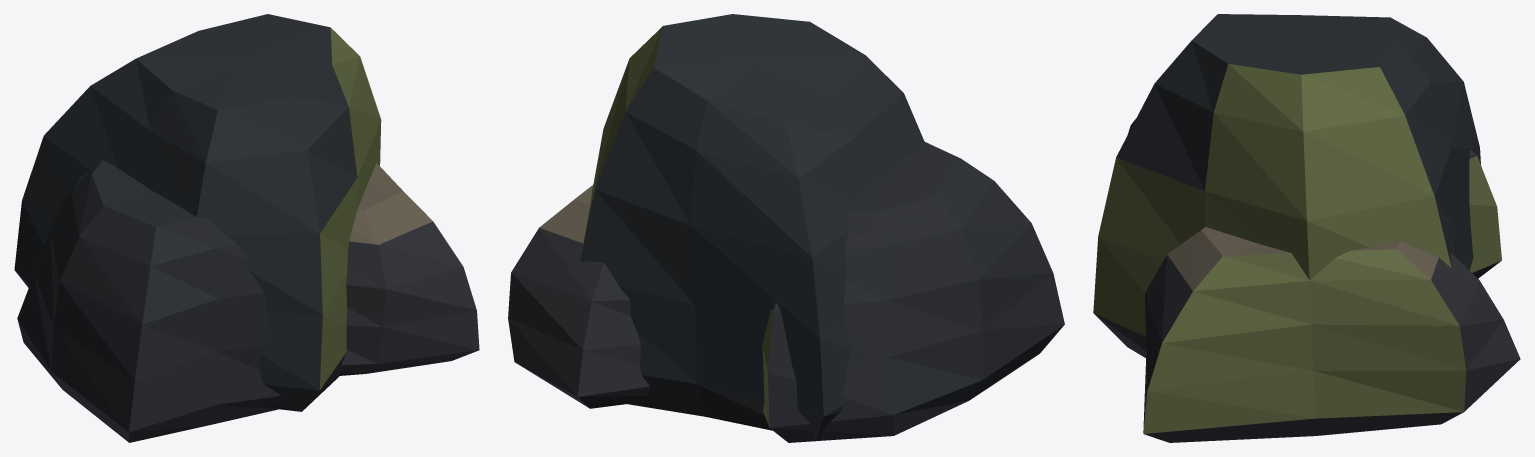
The model's file is rock_reef_small_a.glb.
3 renders of one model, left to right at view 1: azimuth 30°, elevation 25°; view 2: azimuth 150°, elevation 25°; view 3: azimuth 270°, elevation 25°, orthographic. The views are drawn at different scales.
Visible parts, largest first — view 1: rock_reef_small_a_LOD0_stone; view 2: rock_reef_small_a_LOD0_stone; view 3: rock_reef_small_a_LOD0_stone.
Boxes of the visible parts, x1,y1,x2,y2 form: rock_reef_small_a_LOD0_stone: (14,14,479,442); rock_reef_small_a_LOD0_stone: (508,14,1064,442); rock_reef_small_a_LOD0_stone: (1093,14,1520,442).
Bounding box in the file's own units: 0.47 × 0.3744 × 0.4324.
